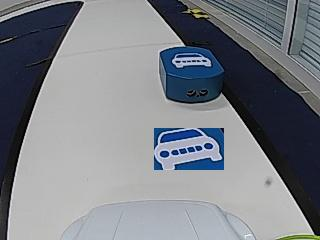safety: (172, 52, 213, 68)
